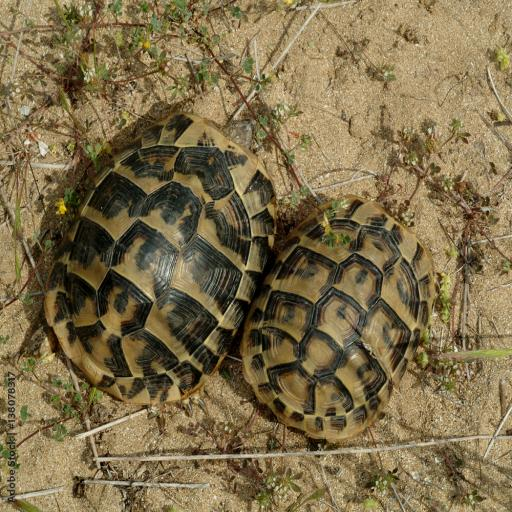turtle: (38, 106, 276, 406), (238, 184, 438, 446)
